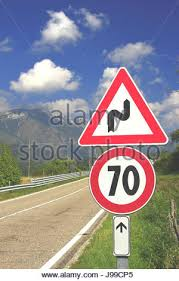Speed_limit_70km: (87, 149, 158, 214)
